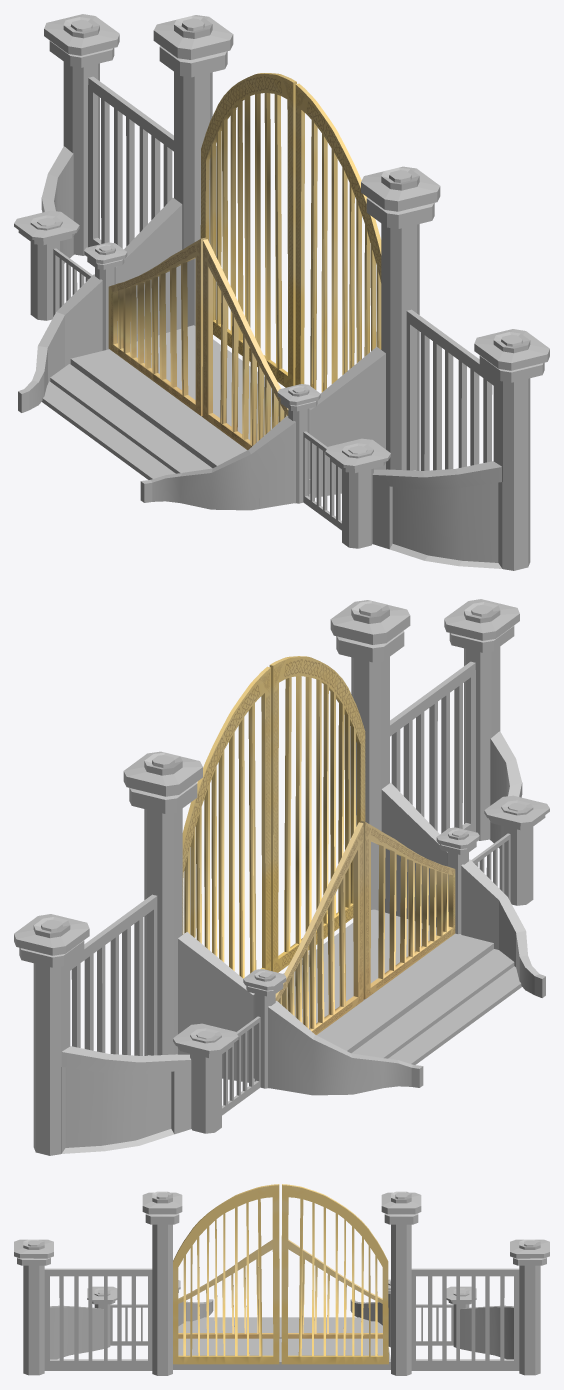
File: Asgard Golden Gates.FBX
3 renders of one model, top to bottom at view 1: azimuth 30°, elevation 25°; view 2: azimuth 150°, elevation 25°; view 3: azimuth 270°, elevation 25°, orthographic. The views are drawn at different scales.
Parts seen in each view (by area): view 1: Fence R003, Fence R, front gate L002, front gate L006, front gate L001, front gate L005; view 2: Fence R, Fence R003, front gate L006, front gate L002, front gate L005, front gate L001; view 3: Fence R, Fence R003, front gate L002, front gate L006, front gate L001, front gate L005.
Boxes of the visible parts, x1=… form: Fence R003: x1=140, y1=166, x2=549, y2=570; Fence R: x1=14, y1=14, x2=278, y2=479; front gate L002: x1=200, y1=73, x2=296, y2=387; front gate L006: x1=295, y1=83, x2=381, y2=392; front gate L001: x1=108, y1=237, x2=205, y2=416; front gate L005: x1=202, y1=239, x2=288, y2=449; Fence R: x1=14, y1=751, x2=521, y2=1155; Fence R003: x1=330, y1=599, x2=549, y2=997; front gate L006: x1=269, y1=656, x2=365, y2=972; front gate L002: x1=182, y1=666, x2=270, y2=978; front gate L005: x1=361, y1=821, x2=455, y2=999; front gate L001: x1=275, y1=822, x2=363, y2=1034; Fence R: x1=173, y1=1191, x2=549, y2=1375; Fence R003: x1=14, y1=1191, x2=213, y2=1375; front gate L002: x1=281, y1=1184, x2=388, y2=1364; front gate L006: x1=173, y1=1184, x2=279, y2=1364; front gate L001: x1=281, y1=1235, x2=382, y2=1338; front gate L005: x1=178, y1=1239, x2=279, y2=1338.
Bounding box in the file's own units: 28.75 × 36.6 × 94.95.
